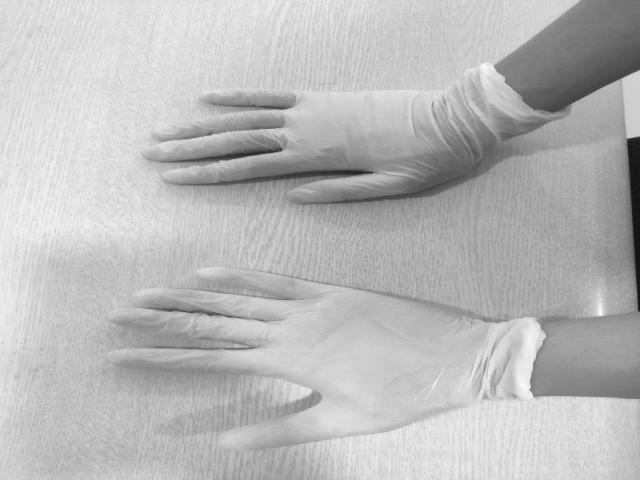gloved: (118, 268, 484, 448), (144, 87, 472, 204)
